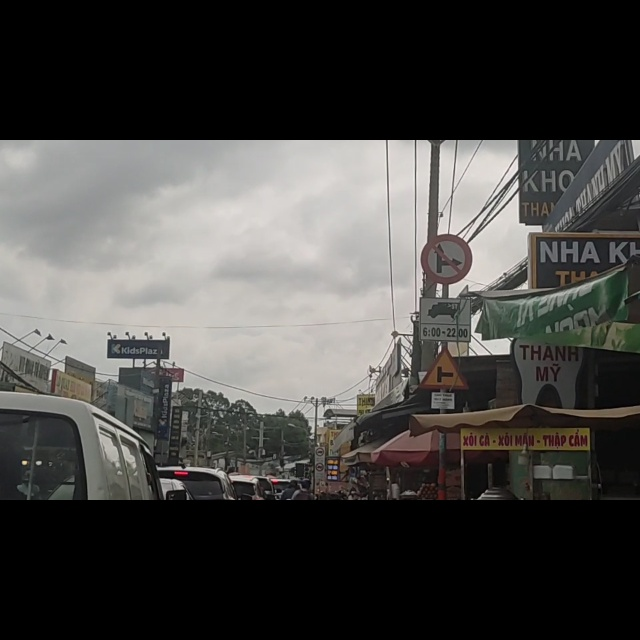bien_cam: (421, 168, 471, 257), (417, 367, 470, 441), (419, 281, 471, 352)
